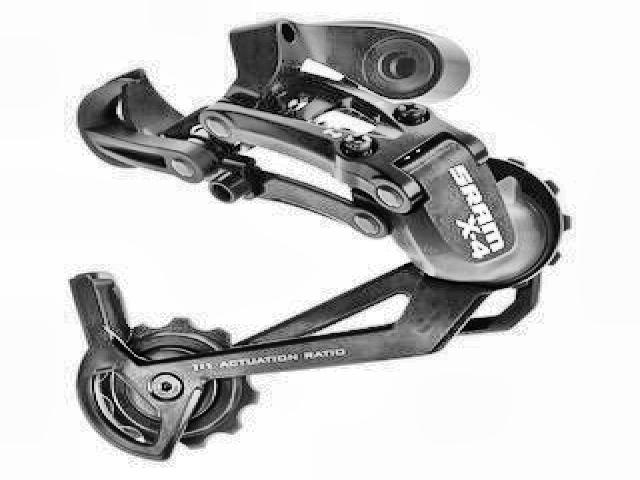rear_derailleur: (61, 14, 577, 466)
